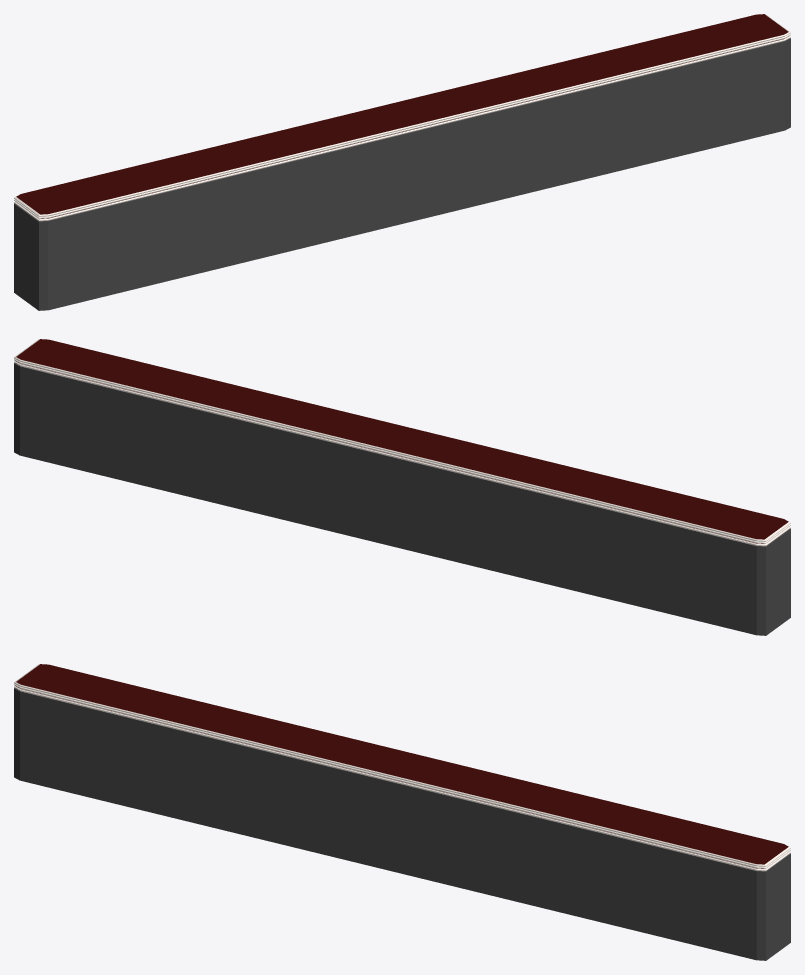
File: Dinner_Counter.fbx
3 views of the same model, one above another, from view 1: azimuth 30°, elevation 25°; view 2: azimuth 150°, elevation 25°; view 3: azimuth 330°, elevation 25° (orthographic).
Parts seen in each view (by area): view 1: Cube.001, Cube.002, Cube.003; view 2: Cube.001, Cube.002, Cube.003; view 3: Cube.001, Cube.002, Cube.003.
Part boxes in pixels (box(x1,y1,x2,y2)): Cube.001: box(14, 38, 790, 310); Cube.002: box(16, 14, 788, 218); Cube.003: box(14, 14, 790, 221); Cube.001: box(14, 363, 790, 635); Cube.002: box(16, 339, 788, 543); Cube.003: box(14, 339, 790, 546); Cube.001: box(14, 688, 790, 960); Cube.002: box(16, 664, 788, 868); Cube.003: box(14, 664, 790, 871).
Size of the model in its own units: 11.19 by 1.36 by 0.7337.
